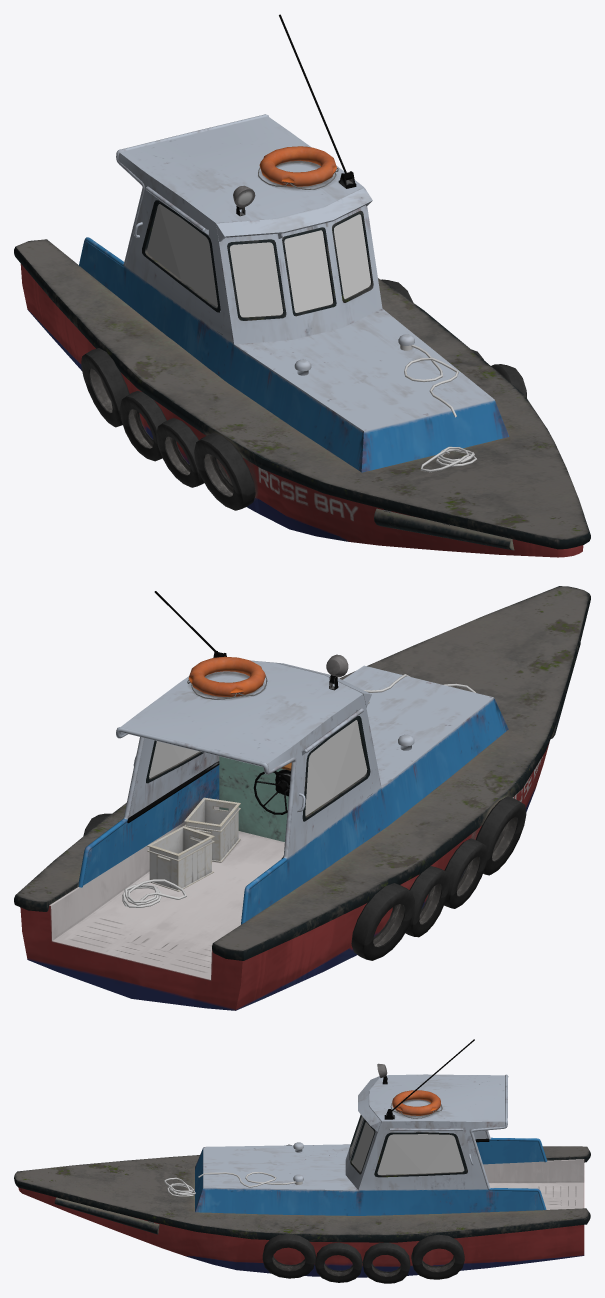
Rendered from PlayerBoat.obj.
3 views of the same model, one above another, from view 1: azimuth 30°, elevation 25°; view 2: azimuth 150°, elevation 25°; view 3: azimuth 270°, elevation 25° (orthographic). The views are drawn at different scales.
Visible parts, largest first — view 1: Old_Boat_Mesh; view 2: Old_Boat_Mesh; view 3: Old_Boat_Mesh.
Part boxes in pixels (x1,y1,x2,y2): Old_Boat_Mesh: [14, 14, 590, 557]; Old_Boat_Mesh: [14, 586, 590, 1010]; Old_Boat_Mesh: [14, 1039, 590, 1283].
Bounding box in the file's own units: 5.73 × 6.45 × 14.42.
